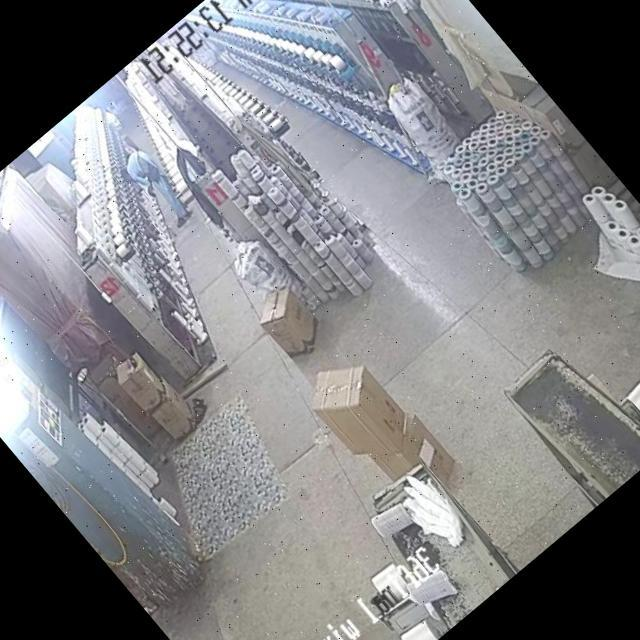person: (115, 141, 192, 225)
